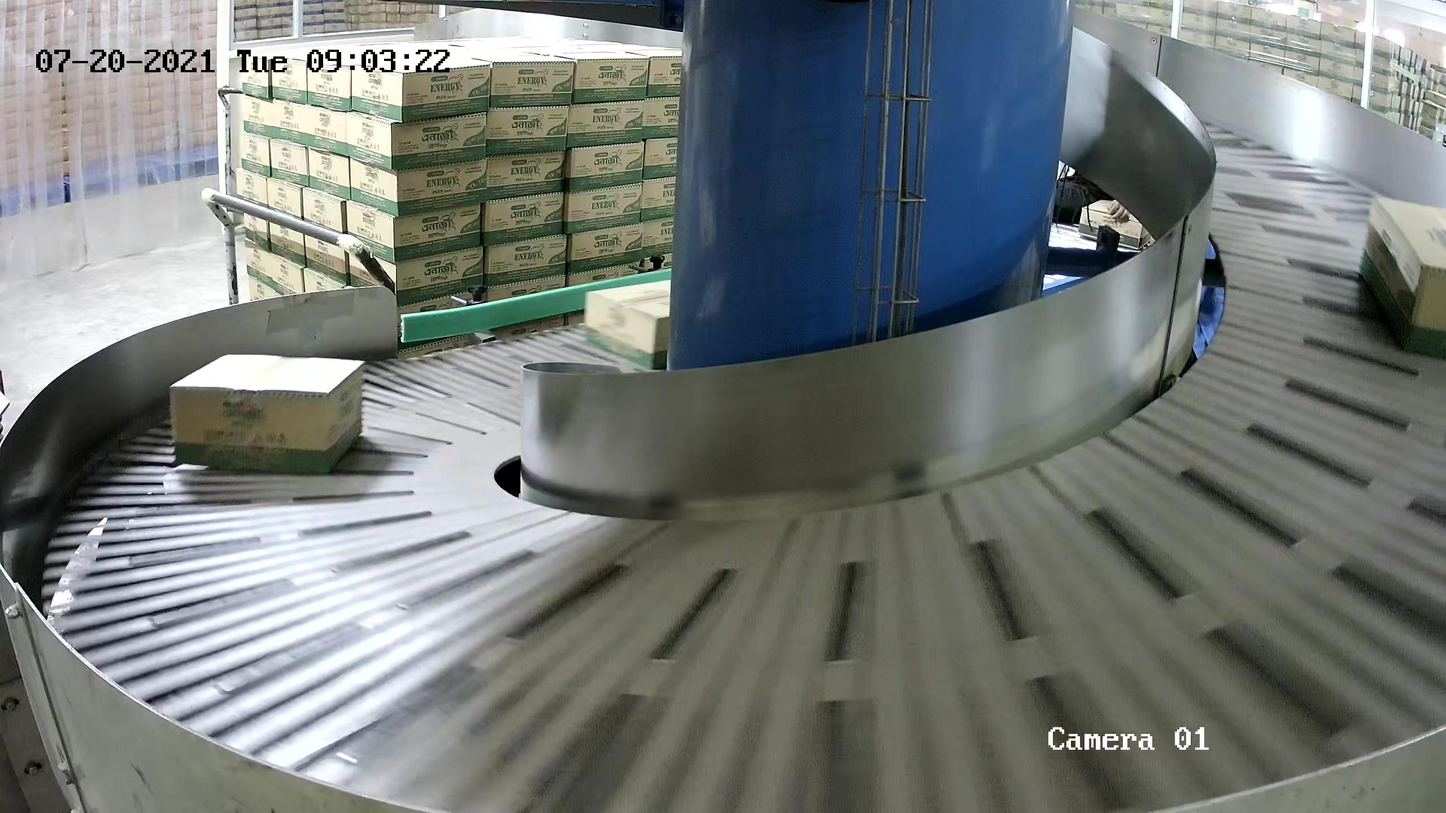Box: (168, 352, 366, 475), (1357, 195, 1446, 360), (582, 279, 671, 371)
